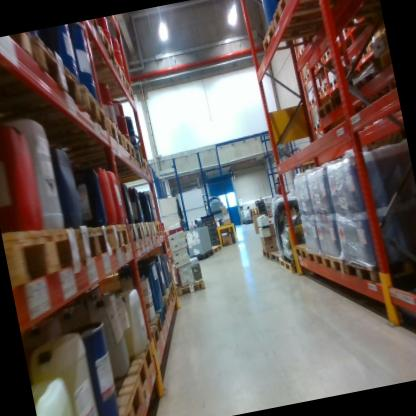pallet: (2, 208, 88, 301), (0, 28, 83, 122), (12, 76, 109, 146), (257, 5, 349, 62), (49, 114, 127, 166), (339, 240, 413, 294), (62, 129, 139, 176), (266, 0, 351, 39), (70, 217, 116, 273), (111, 345, 160, 393), (81, 154, 152, 186), (92, 376, 147, 416), (77, 23, 120, 67), (348, 55, 388, 100), (0, 31, 37, 76), (92, 73, 138, 106), (137, 311, 168, 352), (327, 76, 359, 115), (89, 57, 129, 88), (102, 214, 130, 254), (175, 275, 212, 299), (275, 250, 303, 280), (374, 35, 393, 77), (313, 93, 336, 127), (62, 18, 101, 38), (148, 299, 172, 328), (321, 243, 344, 273), (153, 284, 175, 314), (303, 241, 326, 268), (123, 219, 144, 247), (302, 66, 330, 86), (364, 30, 383, 57), (310, 56, 333, 76), (133, 218, 150, 245), (319, 42, 340, 63), (291, 241, 309, 263), (191, 244, 215, 260), (278, 248, 297, 268), (144, 217, 160, 239), (265, 245, 282, 265), (167, 279, 180, 303), (135, 144, 147, 167), (295, 44, 312, 59), (328, 76, 347, 89), (357, 44, 372, 60), (308, 94, 321, 109), (208, 242, 221, 256), (260, 244, 271, 260), (310, 120, 322, 132), (315, 87, 323, 102), (319, 81, 328, 94), (157, 220, 163, 234), (251, 209, 259, 213), (251, 206, 258, 210), (252, 211, 259, 215)
